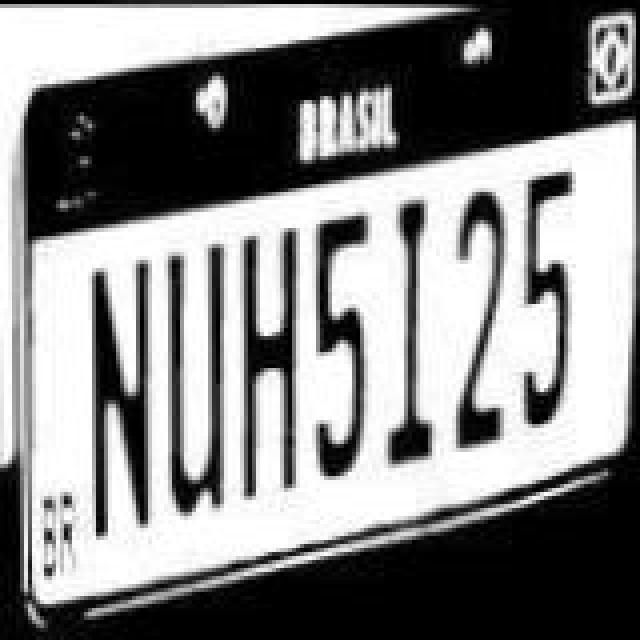2: (440, 178, 516, 462)
5: (306, 202, 378, 486), (516, 164, 584, 432)
H: (232, 220, 308, 508)
I: (376, 186, 444, 474)
N: (86, 256, 162, 564)
U: (158, 234, 234, 534)
